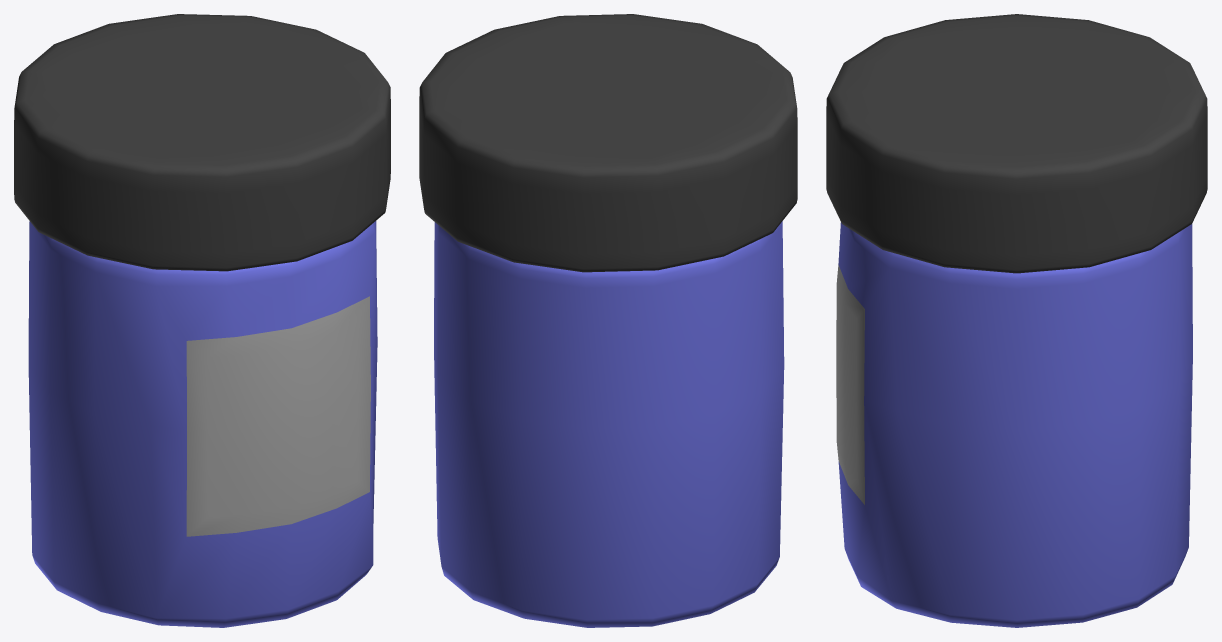
The model's file is Pocion_1.fbx.
The picture shows the model from 3 angles, left to right: view 1: azimuth 30°, elevation 25°; view 2: azimuth 150°, elevation 25°; view 3: azimuth 270°, elevation 25°; orthographic projection.
Parts seen in each view (by area): view 1: Cube.008; view 2: Cube.008; view 3: Cube.008.
Part boxes in pixels (bbox=[...]): Cube.008: bbox=[14, 14, 390, 627]; Cube.008: bbox=[419, 14, 797, 627]; Cube.008: bbox=[826, 14, 1207, 627].
Bounding box in the file's own units: 70.71 × 95.75 × 70.71.
